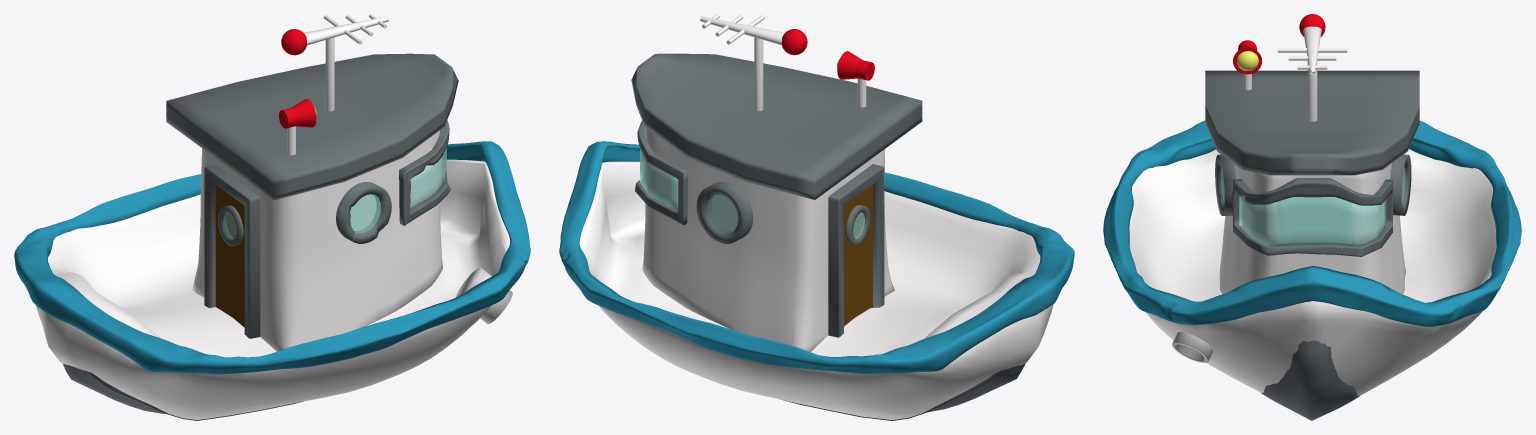
The model's file is Boat1.fbx.
The picture shows the model from 3 angles, left to right: view 1: azimuth 30°, elevation 25°; view 2: azimuth 150°, elevation 25°; view 3: azimuth 270°, elevation 25°; orthographic projection.
Parts seen in each view (by area): view 1: Cube, Plane.001, Cube.001, Cube.002, Cube.004, Cube.003, Plane.002, Circle.001, Cube.005, Plane, Circle.004, Cylinder.006 (+5 smaller); view 2: Cube, Plane.001, Cube.001, Cube.002, Cube.004, Cube.003, Circle.006, Plane.002, Cube.005, Plane, Circle.005, Cylinder.006 (+4 smaller); view 3: Cube, Cube.002, Plane.001, Cube.001, Plane, Plane.002, Cube.005, Circle.006, Circle.001, Cylinder.007, Cylinder.001, Cylinder (+1 smaller).
Part boxes in pixels (x1,y1,x2,y2): Cube: (36, 159, 509, 419); Plane.001: (166, 53, 458, 200); Cube.001: (192, 130, 442, 351); Cube.002: (14, 141, 530, 374); Cube.004: (204, 164, 260, 338); Cube.003: (215, 185, 244, 327); Plane.002: (399, 120, 450, 225); Circle.001: (336, 182, 391, 243); Cube.005: (63, 364, 303, 420); Plane: (410, 147, 447, 209); Circle.004: (350, 194, 380, 233); Cylinder.006: (279, 99, 316, 128); Cube: (579, 161, 1053, 419); Plane.001: (631, 53, 922, 199); Cube.001: (642, 127, 894, 351); Cube.002: (559, 141, 1074, 373); Cube.004: (828, 164, 884, 337); Cube.003: (844, 184, 876, 326); Circle.006: (696, 182, 753, 243); Plane.002: (635, 120, 688, 225); Cube.005: (781, 363, 1025, 420); Plane: (640, 148, 678, 209); Circle.005: (707, 194, 737, 232); Cylinder.006: (837, 51, 874, 80); Cube: (1129, 149, 1496, 395); Cube.002: (1103, 120, 1521, 326); Plane.001: (1205, 70, 1419, 175); Cube.001: (1219, 163, 1405, 294); Plane: (1239, 196, 1386, 248); Plane.002: (1232, 178, 1392, 256); Cube.005: (1261, 340, 1359, 420); Circle.006: (1390, 154, 1411, 215); Circle.001: (1215, 154, 1236, 215); Cylinder.007: (1172, 331, 1212, 362); Cylinder.001: (1303, 26, 1321, 74); Cylinder: (1307, 61, 1317, 121).
Size of the model in its own units: 1480 by 1116 by 1157.
